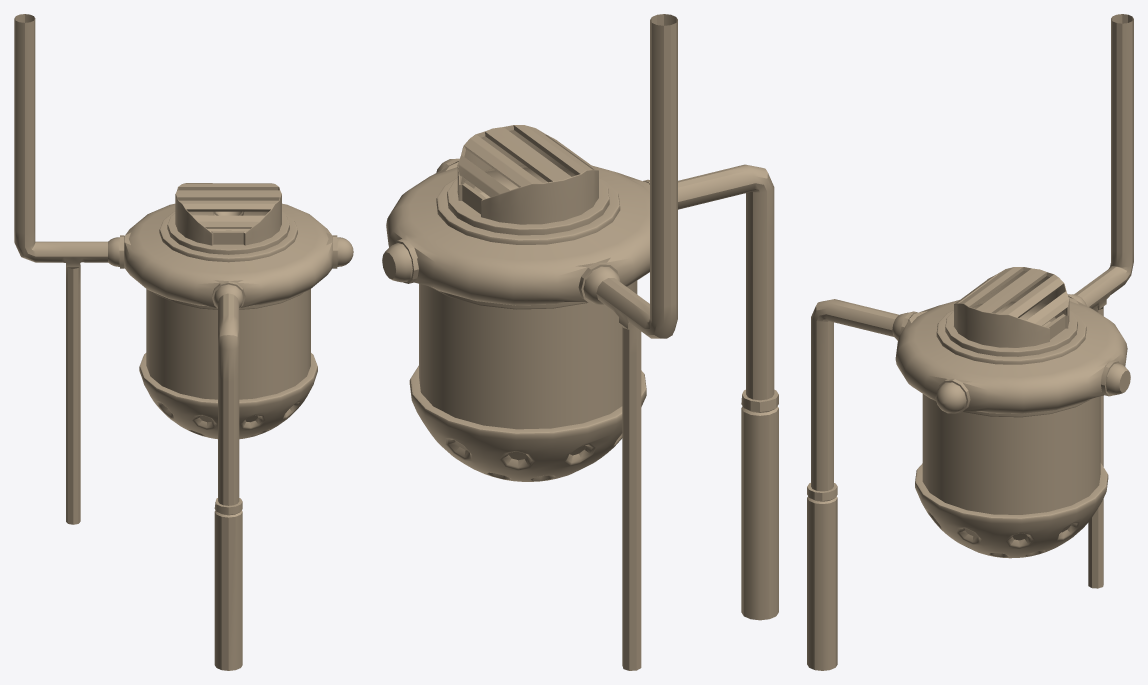
File: ModuleAnm.fbx
3 renders of one model, left to right at view 1: azimuth 30°, elevation 25°; view 2: azimuth 150°, elevation 25°; view 3: azimuth 270°, elevation 25°, orthographic. The views are drawn at different scales.
Parts seen in each view (by area): view 1: polySurface406, polySurface403; view 2: polySurface406, polySurface403; view 3: polySurface406, polySurface403.
Part boxes in pixels (x1,y1,x2,y2): polySurface406: [14, 14, 353, 670]; polySurface403: [146, 289, 310, 399]; polySurface406: [382, 14, 778, 670]; polySurface403: [419, 280, 637, 429]; polySurface406: [807, 14, 1133, 670]; polySurface403: [922, 394, 1100, 514].
Bounding box in the file's own units: 440 × 918 × 445.
